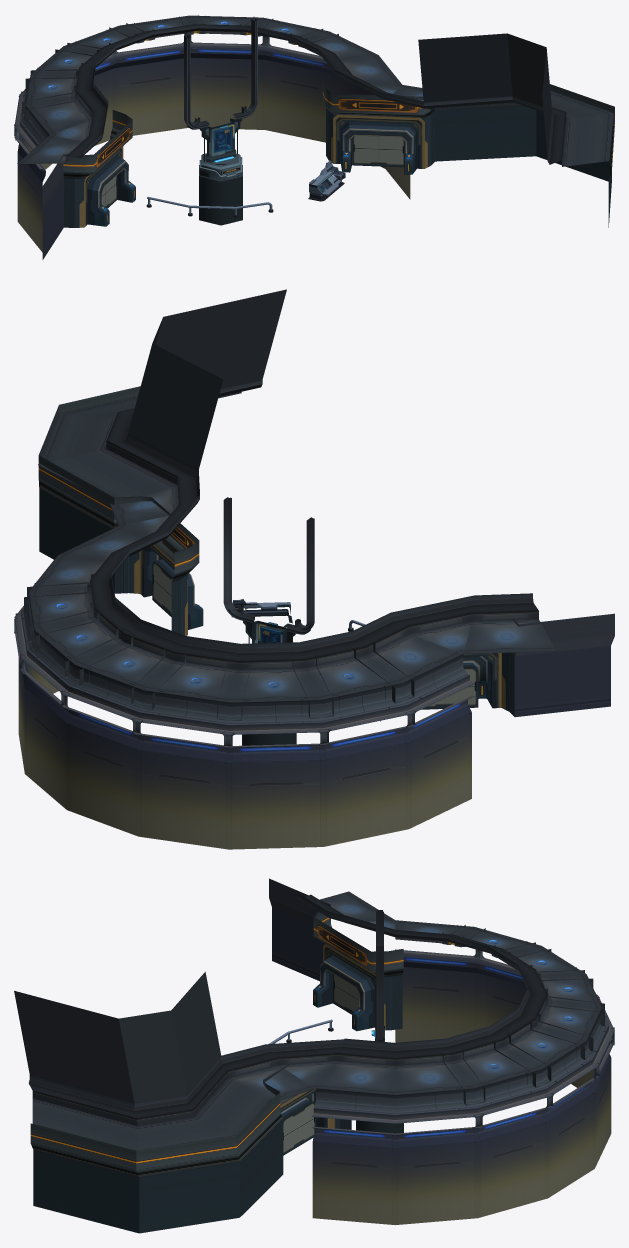
Rendered from ts_zjmobj001.FBX.
The picture shows the model from 3 angles, top to bottom: view 1: azimuth 30°, elevation 25°; view 2: azimuth 150°, elevation 25°; view 3: azimuth 270°, elevation 25°; orthographic projection. The views are drawn at different scales.
Visible parts, largest first — view 1: ts_zjmobj001; view 2: ts_zjmobj001; view 3: ts_zjmobj001.
Boxes of the visible parts, box(x1,y1,x2,y2) form: ts_zjmobj001: box(14, 15, 614, 259); ts_zjmobj001: box(14, 289, 614, 849); ts_zjmobj001: box(14, 878, 614, 1233).
Size of the model in its own units: 45.3 by 17.43 by 42.23.
